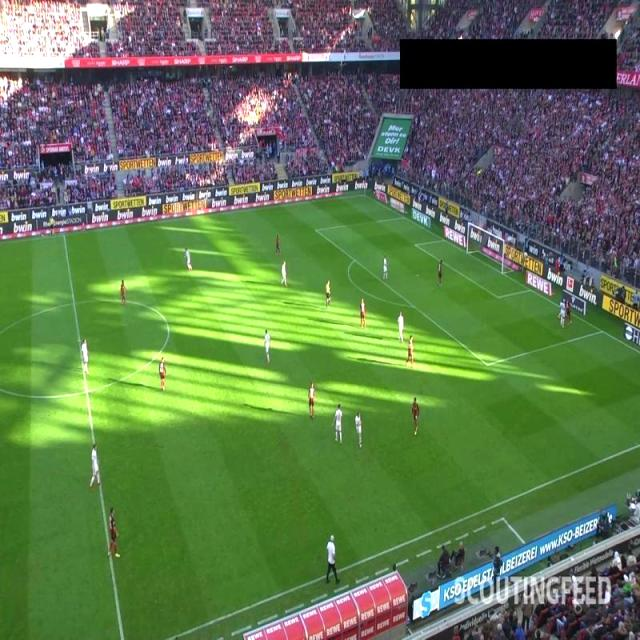bigarea_bottom_inner: (475, 356, 498, 374)
bigarea_bottom_outter: (596, 325, 608, 336)
bigarea_top_inner: (310, 223, 322, 234)
bigarea_top_outter: (398, 212, 409, 222)
bottom_arc_area_intersection: (407, 300, 421, 314)
corner: (359, 188, 370, 200)
halfcircle_bottom: (80, 385, 92, 398)
halfcircle_top: (67, 296, 79, 309)
midline_top_intersection: (58, 230, 69, 241)
smallarea_bottom_inner: (494, 292, 504, 302)
smallarea_bottom_outter: (524, 282, 537, 298)
smallarea_top_inner: (410, 238, 420, 250)
smallarea_top_outter: (438, 233, 448, 244)
top_arc_area_intersection: (349, 256, 360, 266)
